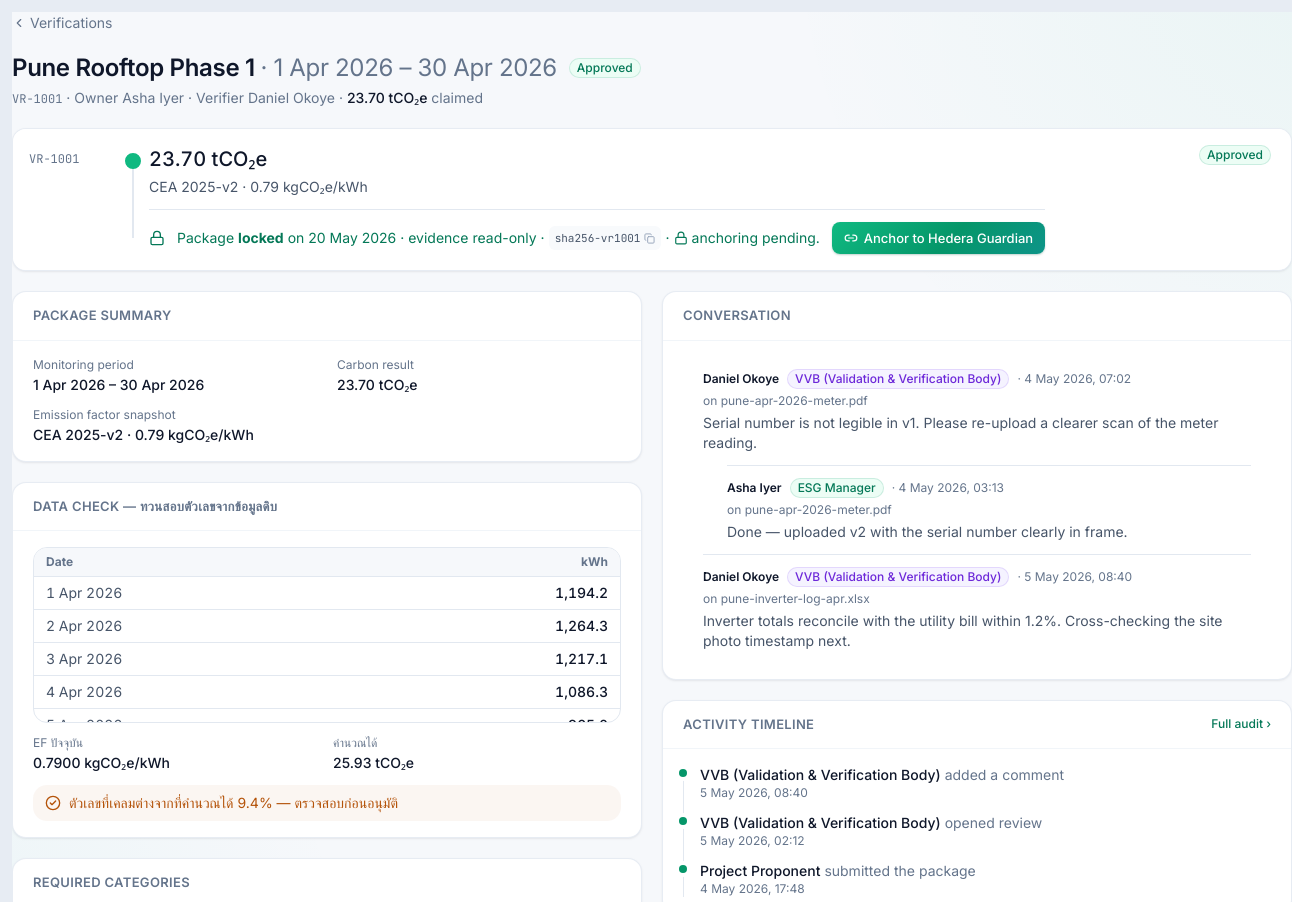
Test: ReviewDetail anchoring › shows the Anchor button for an approved, unanchored package and flips to Anchored on click
Click the button "Anchor to Hedera Guardian" at [938, 238], box [832,222,1045,254]
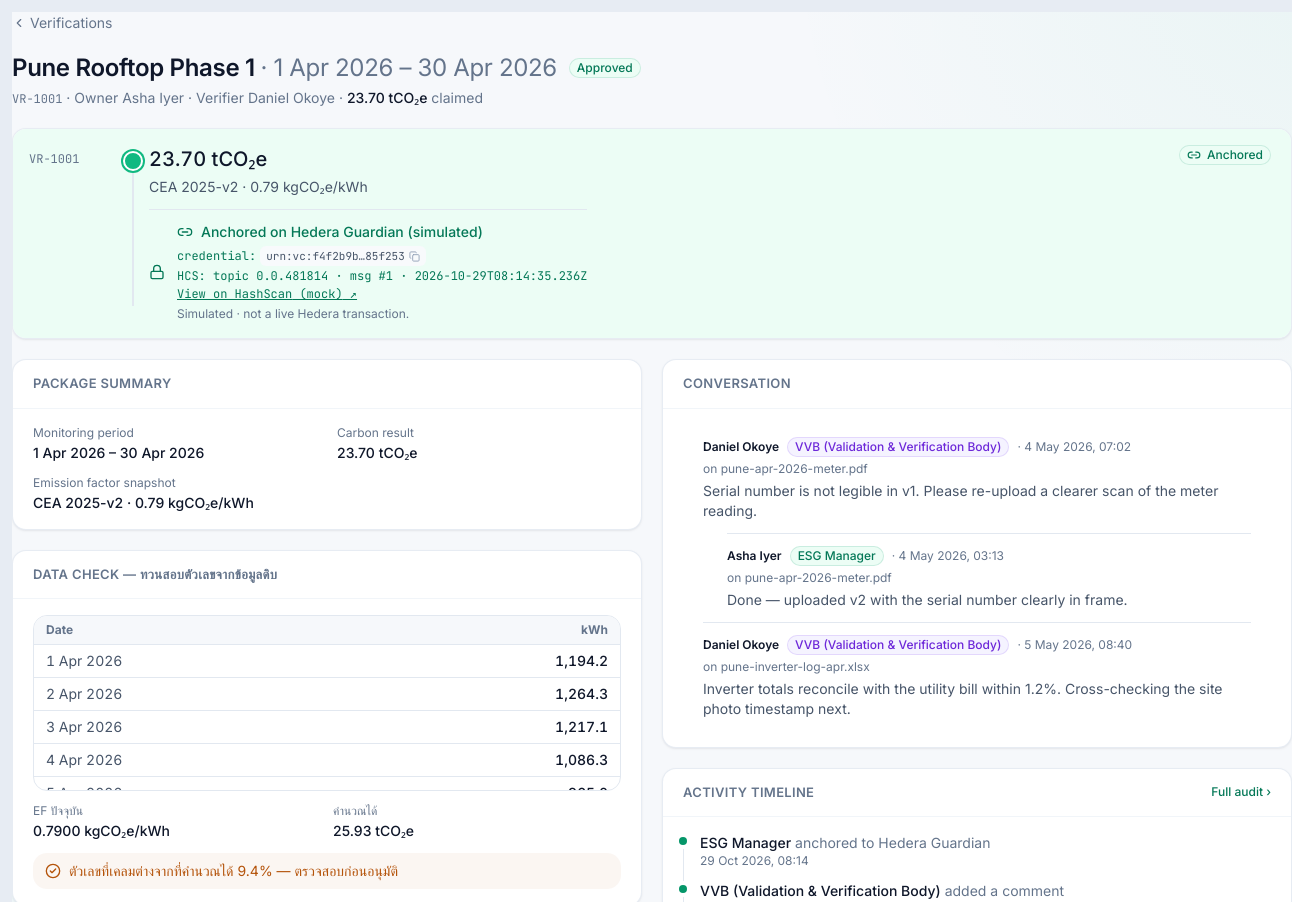
Check: the text "Anchored on Hedera Guardian (simulated)" is shown, box [177,223,483,240]
Check: the button "Anchor to Hedera Guardian" is gone
Check: the link "View on HashScan (mock) ↗" is shown, box [177,286,357,302]
